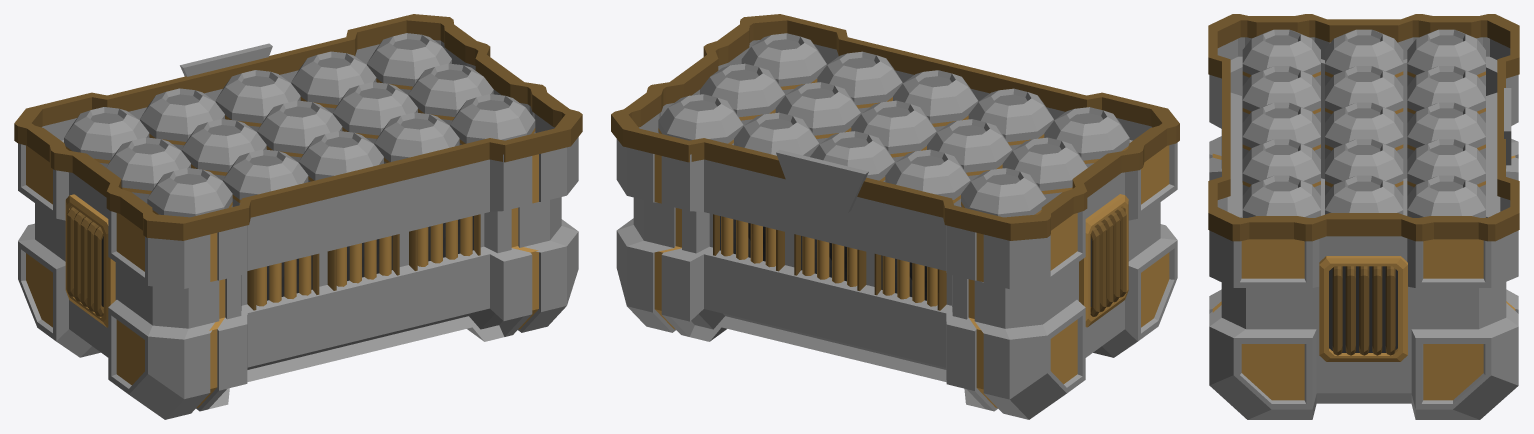
Rendered from Props_ContainerFull.glb.
3 views of the same model, side by side, from view 1: azimuth 30°, elevation 25°; view 2: azimuth 150°, elevation 25°; view 3: azimuth 270°, elevation 25° (orthographic).
Visible parts, largest first — view 1: Props_ContainerFull_Cube.026; view 2: Props_ContainerFull_Cube.026; view 3: Props_ContainerFull_Cube.026.
Boxes of the visible parts, bbox=[...] form: Props_ContainerFull_Cube.026: bbox=[14, 14, 582, 419]; Props_ContainerFull_Cube.026: bbox=[611, 14, 1179, 419]; Props_ContainerFull_Cube.026: bbox=[1208, 14, 1519, 419].
Size of the model in its own units: 1.2 by 0.5824 by 0.7517.
